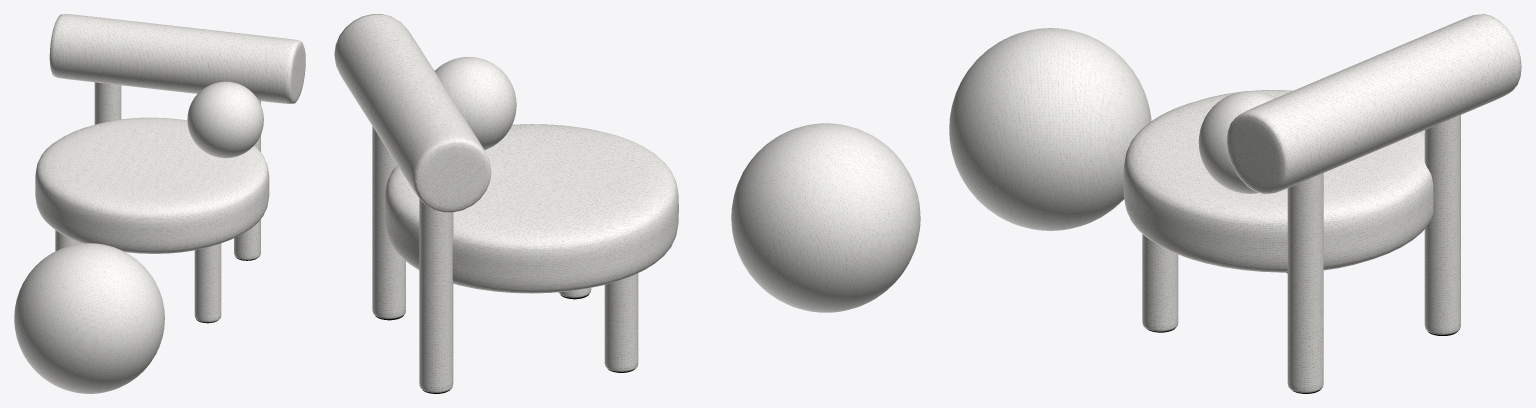
3 views of the same model, side by side, from view 1: azimuth 30°, elevation 25°; view 2: azimuth 150°, elevation 25°; view 3: azimuth 270°, elevation 25° (orthographic). The views are drawn at different scales.
Parts seen in each view (by area): view 1: Noom_Low_Chair_Gropius_CS1_Ottoman_01 1, Noom_Low_Chair_Gropius_CS1_Ottoman_01.002; view 2: Noom_Low_Chair_Gropius_CS1_Ottoman_01 1, Noom_Low_Chair_Gropius_CS1_Ottoman_01.002; view 3: Noom_Low_Chair_Gropius_CS1_Ottoman_01 1, Noom_Low_Chair_Gropius_CS1_Ottoman_01.002.
Boxes of the visible parts, <box> form: Noom_Low_Chair_Gropius_CS1_Ottoman_01 1: <box>35,14,305,322</box>; Noom_Low_Chair_Gropius_CS1_Ottoman_01.002: <box>14,81,263,393</box>; Noom_Low_Chair_Gropius_CS1_Ottoman_01 1: <box>334,14,678,392</box>; Noom_Low_Chair_Gropius_CS1_Ottoman_01.002: <box>435,57,920,312</box>; Noom_Low_Chair_Gropius_CS1_Ottoman_01 1: <box>1123,14,1521,392</box>; Noom_Low_Chair_Gropius_CS1_Ottoman_01.002: <box>949,28,1275,230</box>.
Size of the model in its own units: 1.28 by 0.7224 by 1.27.
Materials: 3 (2 with a texture image).
